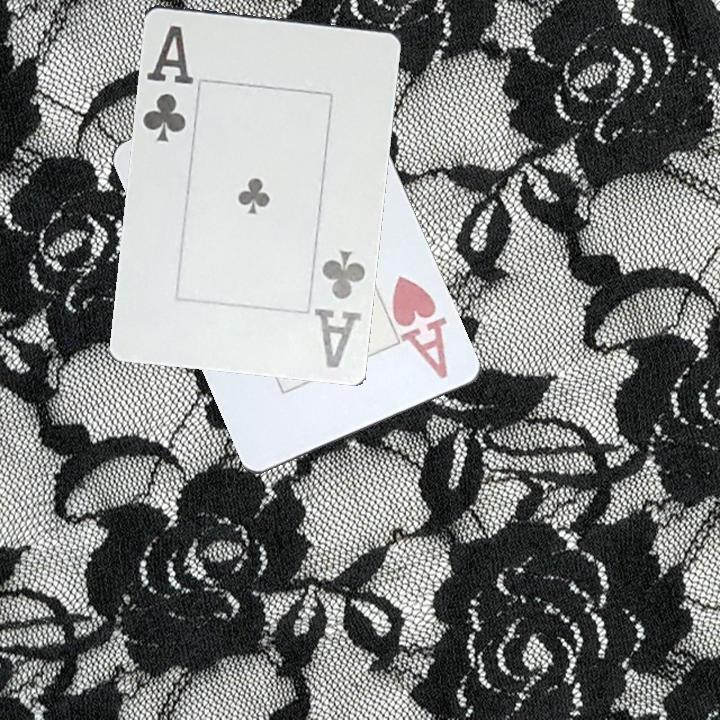Ac: (136, 21, 197, 145), (310, 245, 368, 371)
Ah: (388, 270, 451, 382)
